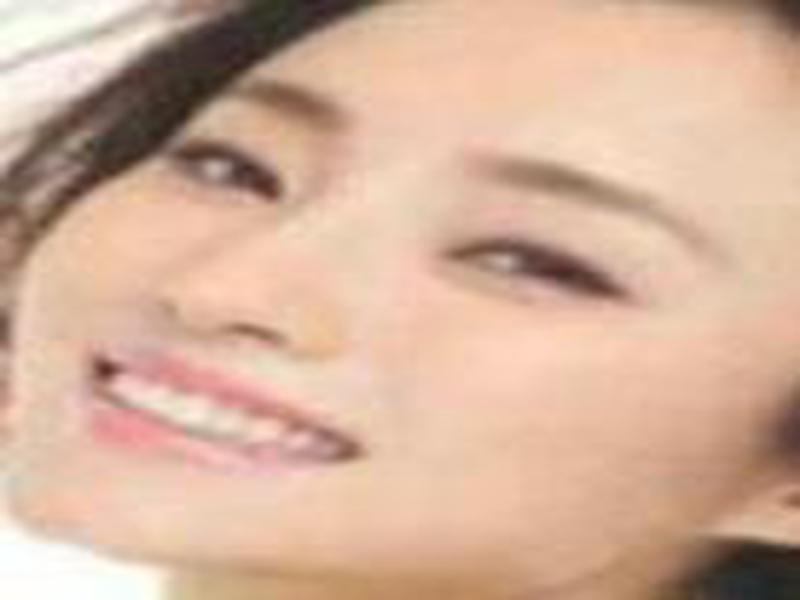without_mask: (12, 19, 727, 580)
